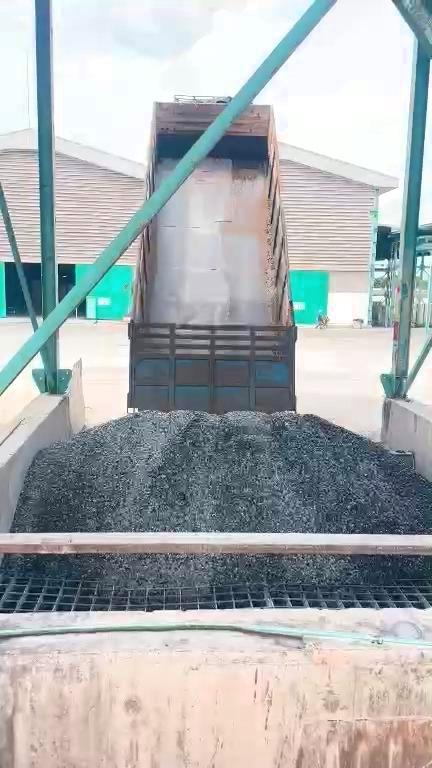gravel: (14, 411, 432, 532), (9, 555, 432, 584)
